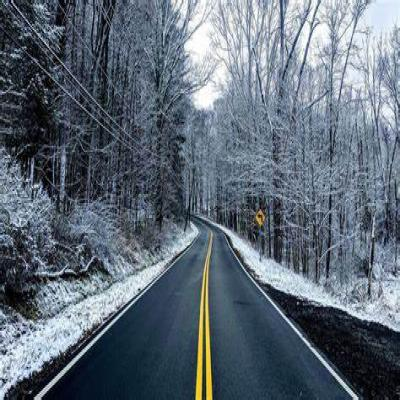clear-road: (36, 220, 357, 400)
